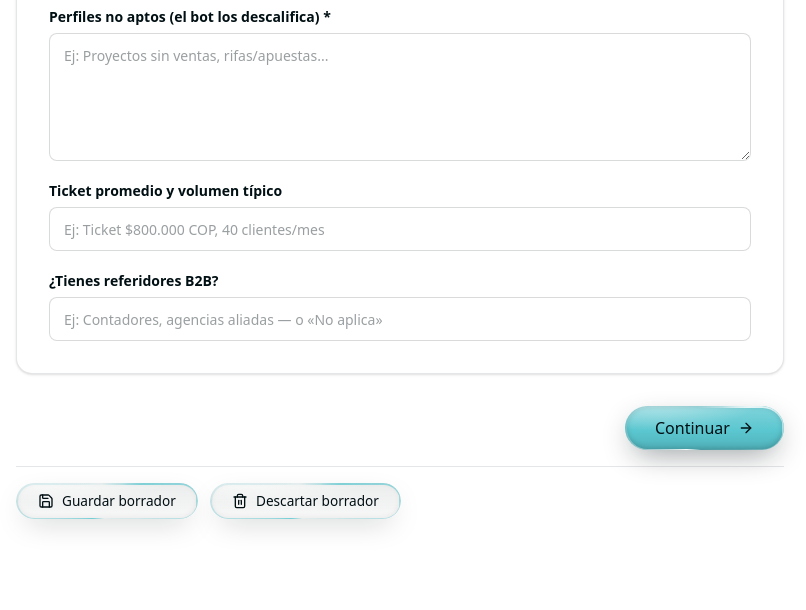
Test: OnboardingWizard › dismisses the toast notice with its close button
(page scrolled)
Click the button "Continuar".
click(704, 428)  # box [625, 406, 784, 450]
(page scrolled)
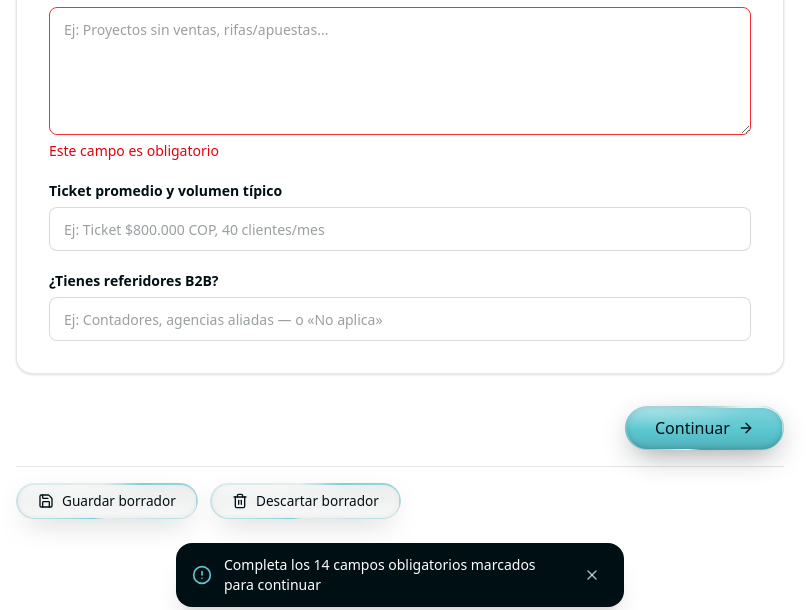
Expected: the text "Completa los 14 campos obligatorios marcados para continuar" is shown, [224, 555, 564, 595]
Click the button named "Cerrar aviso".
click(592, 575)  # box [576, 559, 608, 591]
(page scrolled)
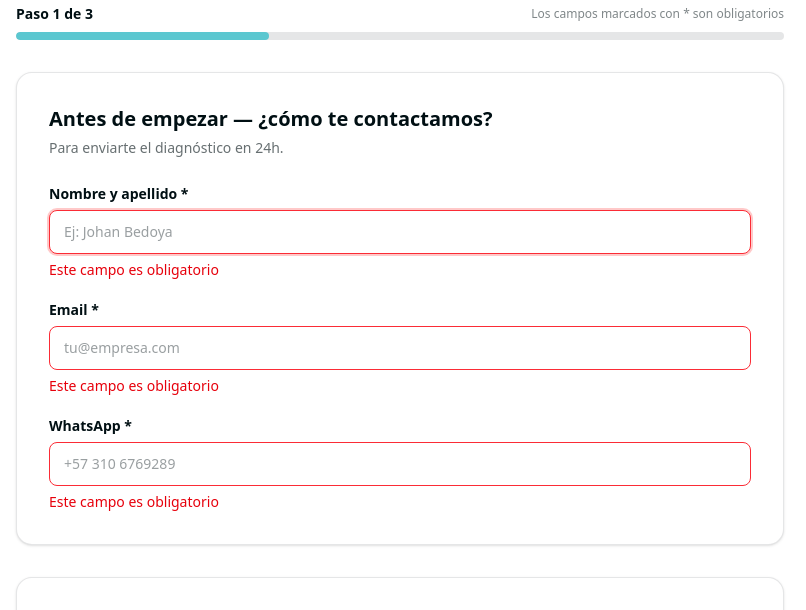
Expected: the text "Completa los 14 campos obligatorios marcados para continuar" is gone
